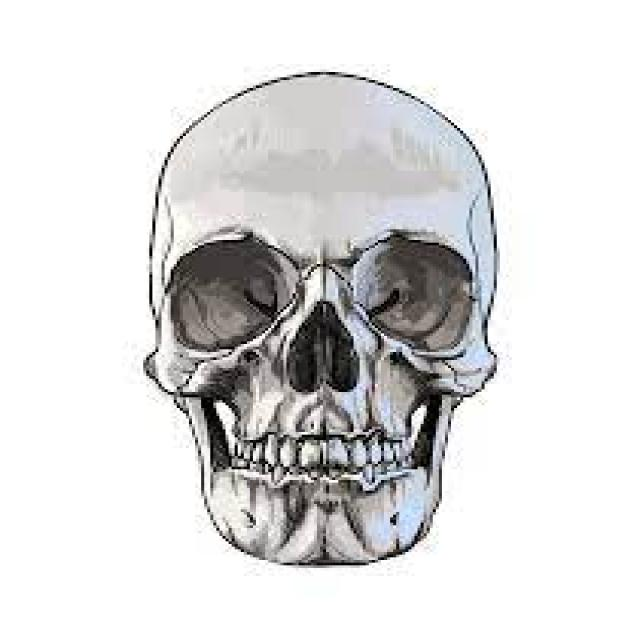skull: (137, 22, 522, 598)
